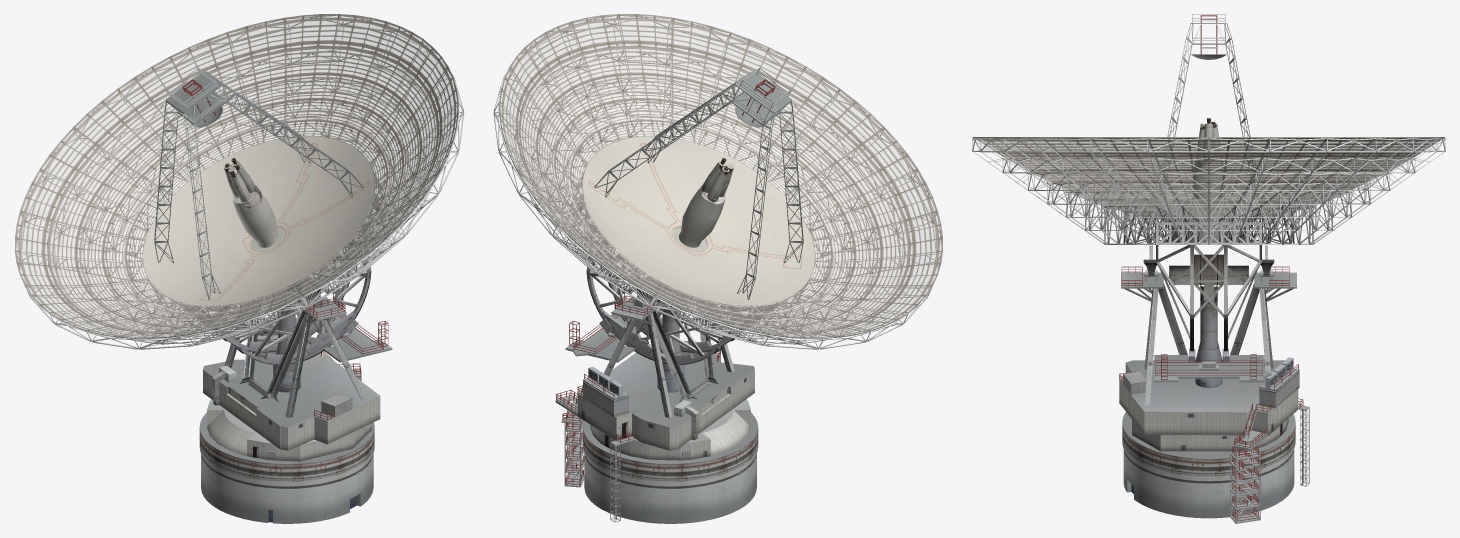
Rendered from DSN_70M-transformed.glb.
3 renders of one model, left to right at view 1: azimuth 30°, elevation 25°; view 2: azimuth 150°, elevation 25°; view 3: azimuth 270°, elevation 25°, orthographic.
Parts seen in each view (by area): view 1: base; view 2: base; view 3: base.
Part boxes in pixels (x1,y1,x2,y2): base: (14, 14, 464, 523); base: (493, 14, 943, 523); base: (972, 14, 1445, 523).
Bounding box in the file's own units: 64.4 × 70.57 × 70.07.
Materials: 6 (6 with a texture image).
